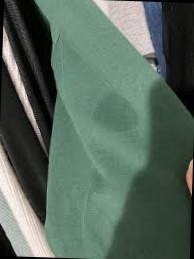oil: (91, 94, 141, 135)
